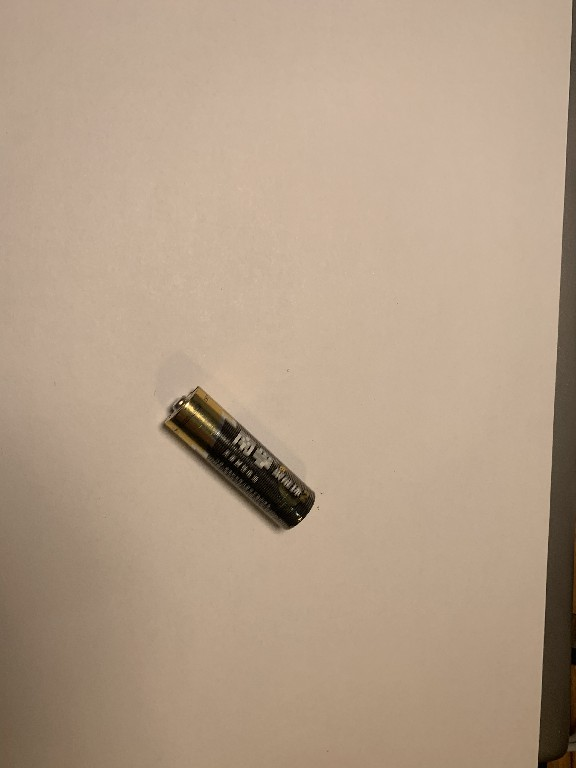charge: (157, 379, 321, 534)
